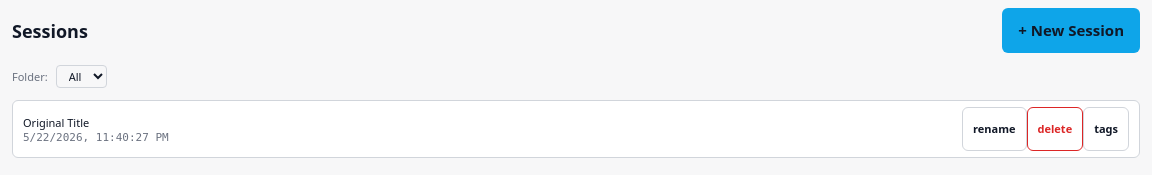
Scenario: Sessions › cancels rename on Escape key
The width and height of the screenshot is (1152, 175).
Expected: the text "Original Title" is shown, top-left (23, 114), bottom-right (89, 130)
// Click rename
Click the button with test id "rename-session-ses_1" at (994, 129), box top-left (962, 107), bottom-right (1027, 151)
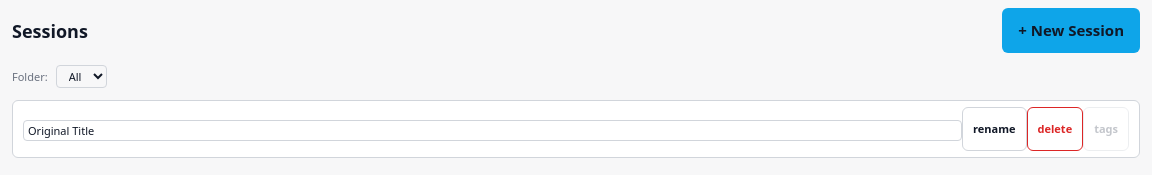
Replace the text in the field with test id "rename-input-ses_1" with "Changed" at (493, 130), box top-left (23, 120), bottom-right (962, 140)
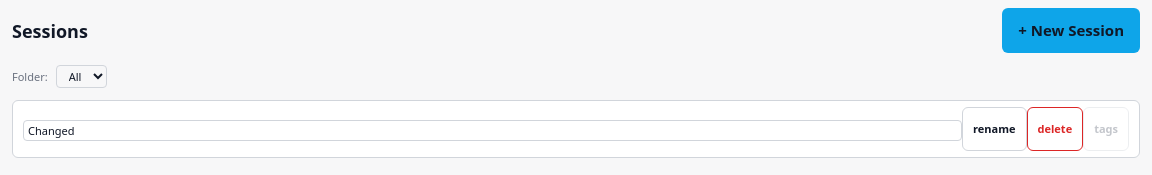
Press Escape in the field with test id "rename-input-ses_1", box top-left (23, 120), bottom-right (962, 140)
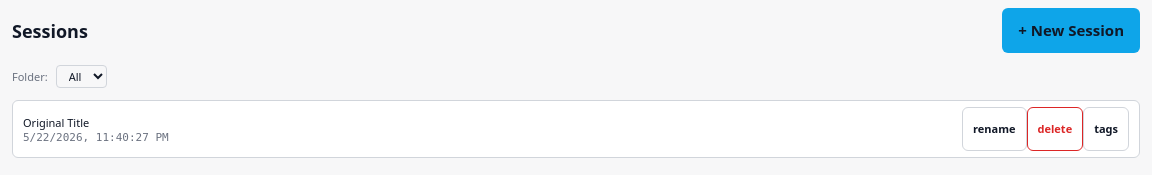
Now the text "Original Title" is shown, box top-left (23, 114), bottom-right (89, 130)
